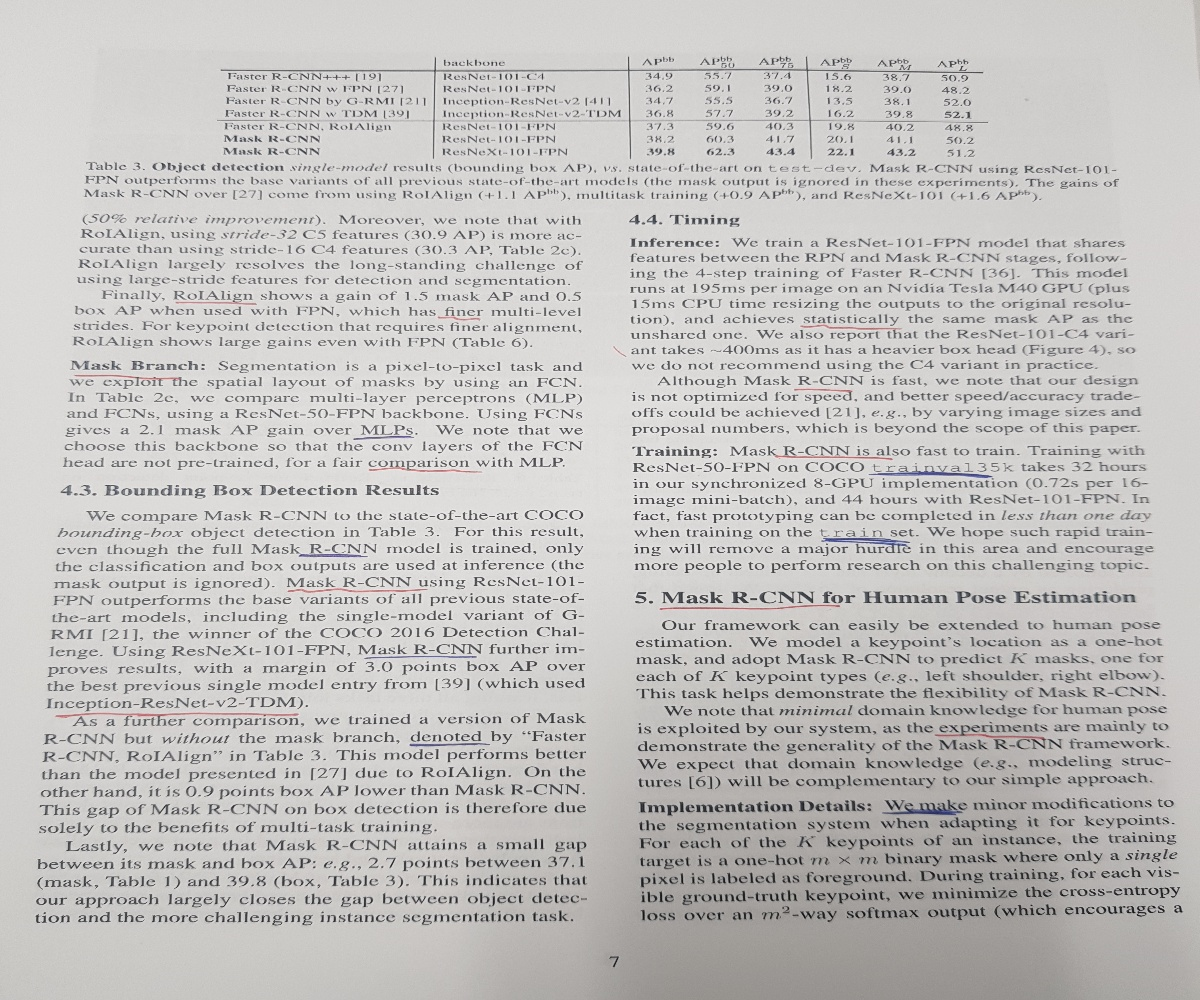underline: (55, 708, 301, 721), (655, 602, 842, 611), (72, 369, 187, 383), (366, 465, 483, 477), (363, 651, 478, 663), (933, 731, 1049, 742), (286, 585, 426, 594), (798, 321, 903, 332), (865, 470, 992, 479), (770, 453, 896, 462), (819, 535, 908, 546), (173, 297, 258, 308), (408, 739, 490, 749), (296, 550, 369, 561), (879, 808, 968, 817), (352, 433, 417, 442), (791, 385, 854, 393), (437, 312, 479, 323)
